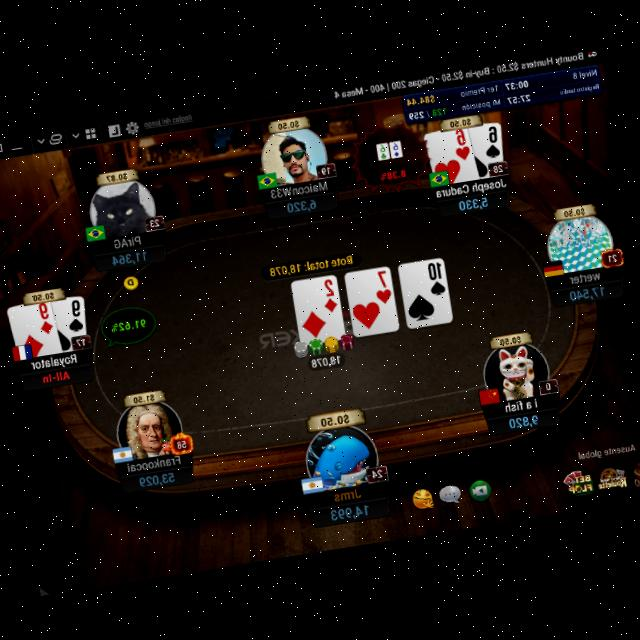2d: (318, 275, 340, 315)
6h: (450, 128, 472, 162)
6s: (481, 124, 504, 160)
7h: (372, 268, 394, 306)
9d: (35, 301, 56, 337)
9s: (62, 295, 86, 334)
Td: (35, 301, 56, 337)
Ts: (424, 258, 448, 298)
all_in_symbol: (39, 367, 72, 385)
bet_text: (310, 352, 344, 370)
dealer: (122, 273, 140, 291)
pot_text: (268, 253, 353, 277)
stack_text: (328, 500, 372, 523), (138, 468, 178, 488), (568, 282, 606, 302), (110, 248, 148, 266), (286, 195, 318, 216), (506, 412, 540, 431), (457, 194, 490, 213)
